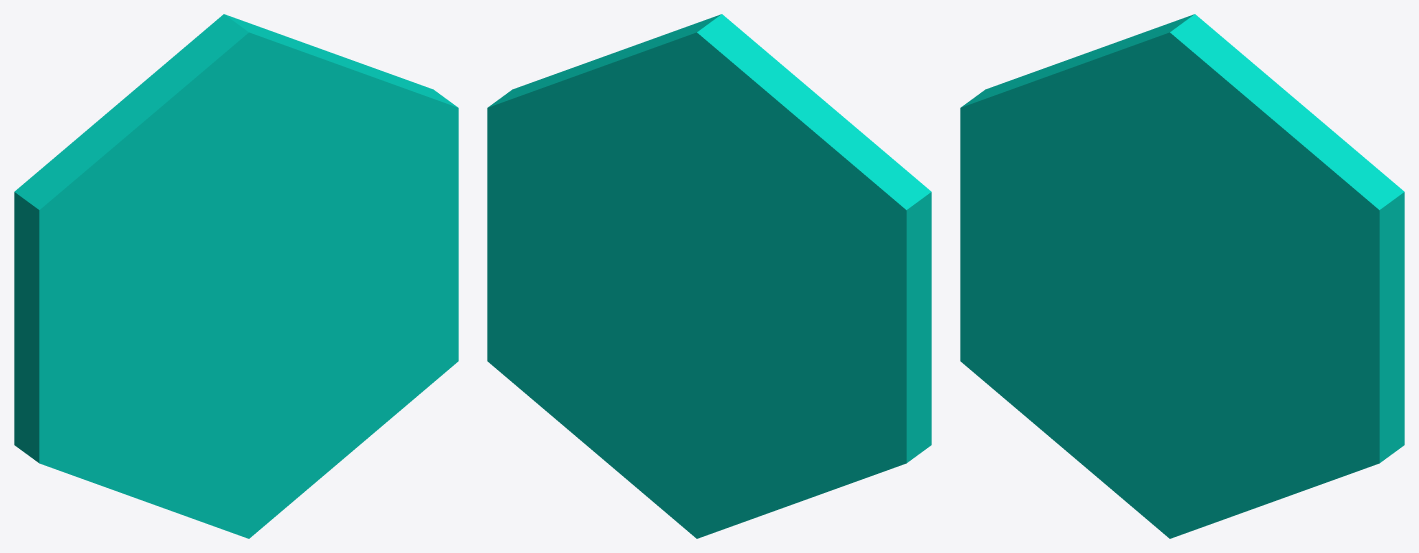
Rendered from badge_mike.glb.
3 renders of one model, left to right at view 1: azimuth 30°, elevation 25°; view 2: azimuth 150°, elevation 25°; view 3: azimuth 330°, elevation 25°, orthographic.
Visible parts, largest first — view 1: badge; view 2: badge; view 3: badge.
Boxes of the visible parts, x1,y1,x2,y2 form: badge: (14, 14, 458, 538); badge: (487, 14, 931, 538); badge: (960, 14, 1404, 538).
Bounding box in the file's own units: 1.73 × 2 × 0.18.
